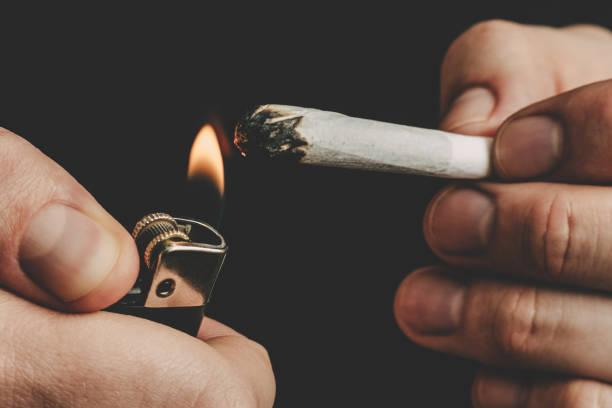Fire: (182, 119, 228, 221)
